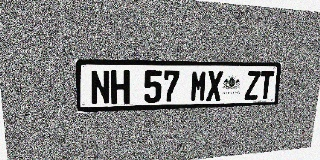5: (144, 70, 162, 103)
7: (162, 70, 180, 103)
H: (111, 70, 130, 104)
M: (190, 70, 207, 102)
N: (90, 70, 110, 105)
T: (258, 71, 274, 99)
X: (206, 70, 223, 101)
Z: (244, 71, 261, 100)
